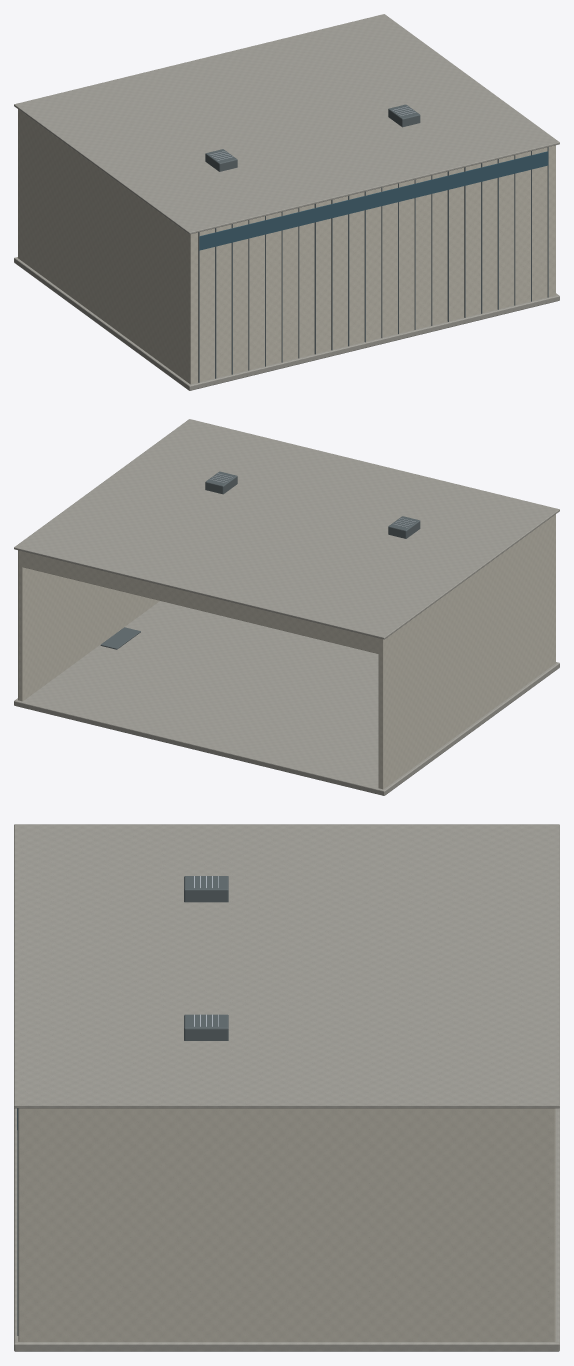
Rendered from mc_hangar.glb.
3 renders of one model, top to bottom at view 1: azimuth 30°, elevation 25°; view 2: azimuth 150°, elevation 25°; view 3: azimuth 270°, elevation 25°, orthographic. The views are drawn at different scales.
Parts seen in each view (by area): view 1: mc_hangar__Geometry; view 2: mc_hangar__Geometry; view 3: mc_hangar__Geometry.
Part boxes in pixels (left/top/right/bottom): mc_hangar__Geometry: left=14, top=14, right=559, bottom=390; mc_hangar__Geometry: left=14, top=419, right=559, bottom=795; mc_hangar__Geometry: left=14, top=824, right=559, bottom=1351.
Bounding box in the file's own units: 44.6 × 19.24 × 36.6.
5 materials, 2 textured.
